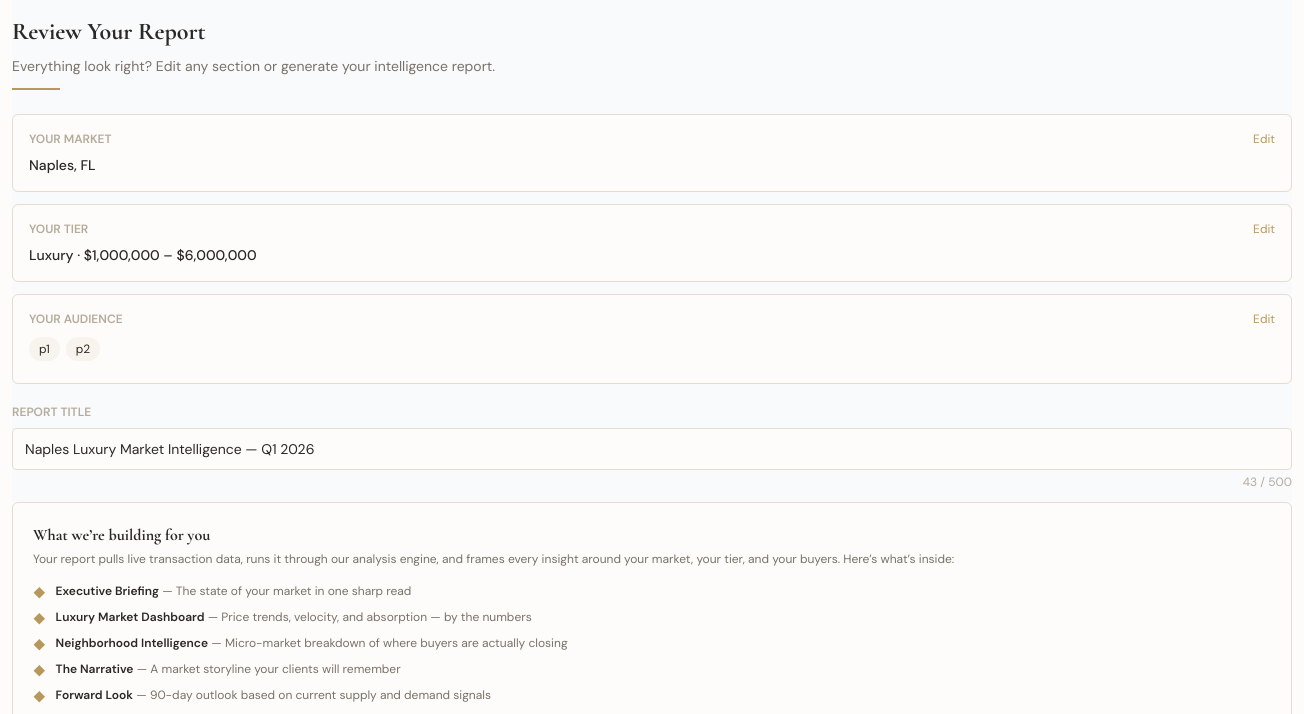
Test case: Step 5: Review & Generate (#156) › StepYourReview › CMP-156-18: shows validation message when title empty
Clear the field labelled "Report Title" at (652, 449), box top-left (12, 428), bottom-right (1292, 470)
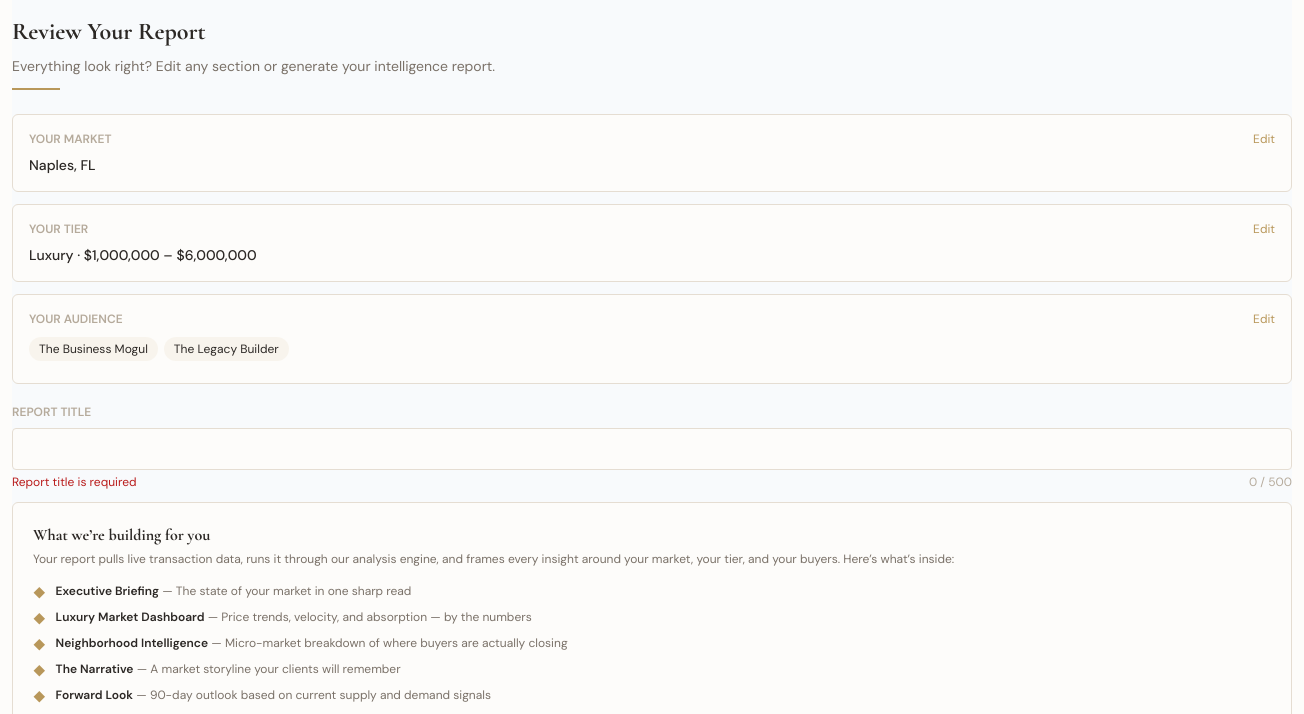
Check: the text "Report title is required" is shown, box top-left (12, 474), bottom-right (136, 490)
